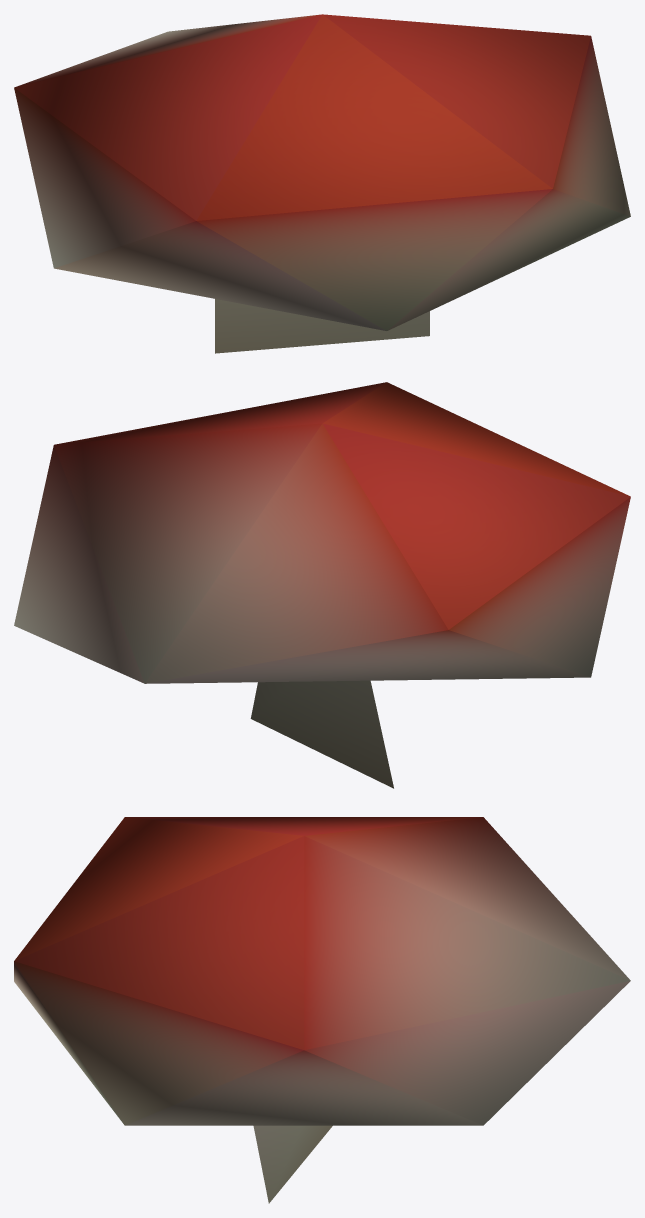
Rendered from mushroom_bk_foret_broceliande_0000.glb.
3 views of the same model, one above another, from view 1: azimuth 30°, elevation 25°; view 2: azimuth 150°, elevation 25°; view 3: azimuth 270°, elevation 25° (orthographic).
Parts seen in each view (by area): view 1: mushroom_bk_000; view 2: mushroom_bk_000; view 3: mushroom_bk_000.
Boxes of the visible parts, bbox=[...] form: mushroom_bk_000: bbox=[14, 14, 630, 353]; mushroom_bk_000: bbox=[14, 382, 630, 788]; mushroom_bk_000: bbox=[14, 817, 630, 1203].
Bounding box in the file's own units: 0.6806 × 0.4 × 0.6882.
